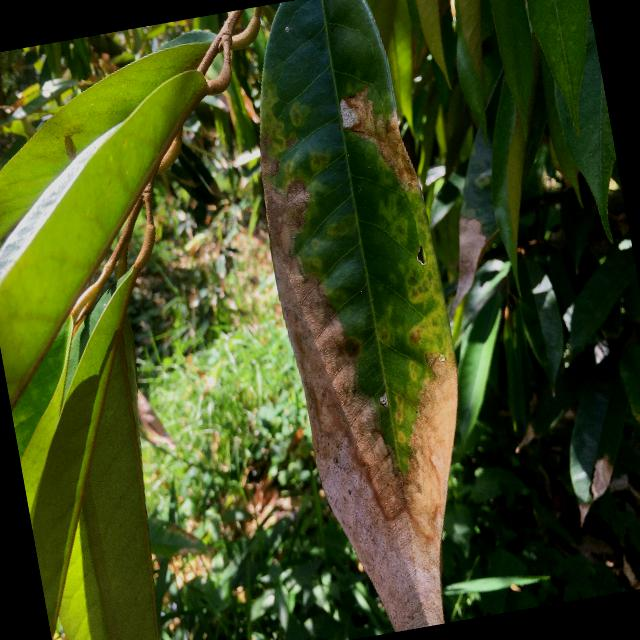Leaf Blight: (220, 0, 512, 639)
